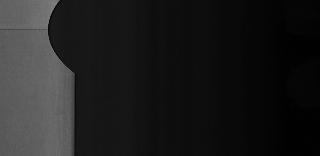welding line: (1, 23, 54, 33)
